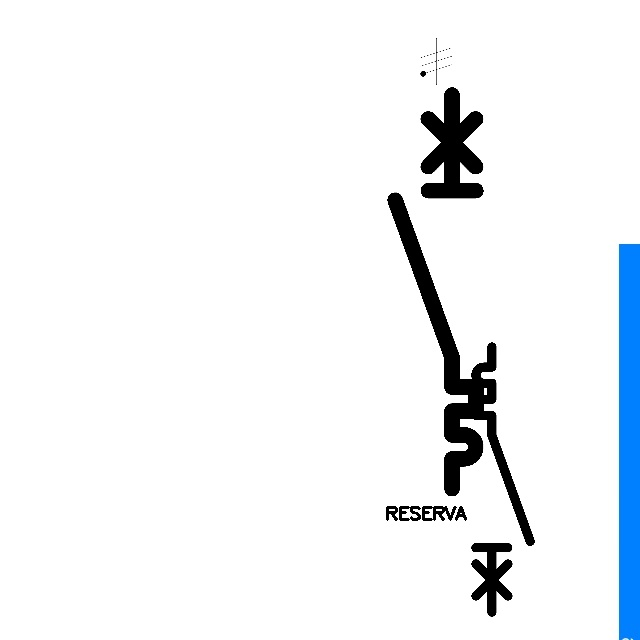interruptor_termomagnetico: (385, 84, 486, 498), (469, 340, 537, 619)
